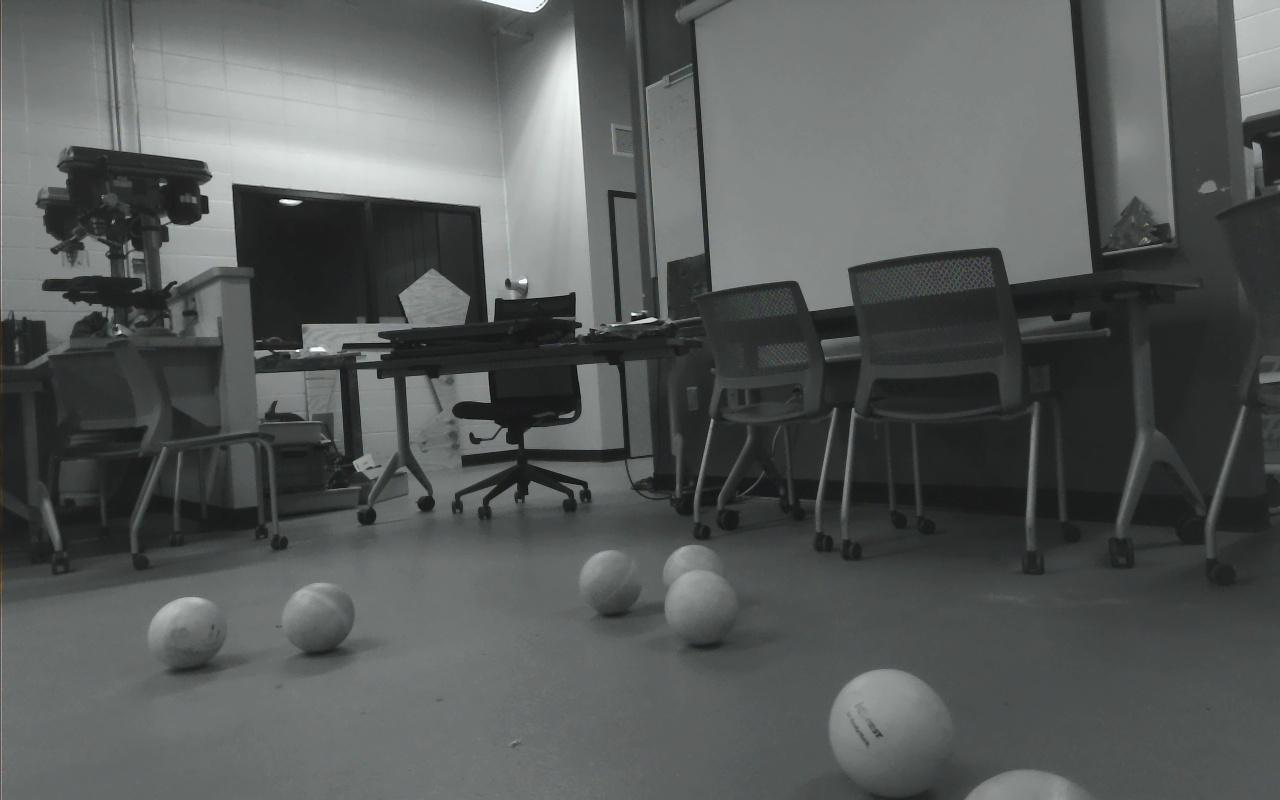Fuel: (827, 669, 954, 799), (146, 596, 228, 669), (664, 570, 739, 647), (280, 583, 355, 654), (579, 549, 643, 616), (964, 768, 1098, 800), (663, 545, 726, 596)
